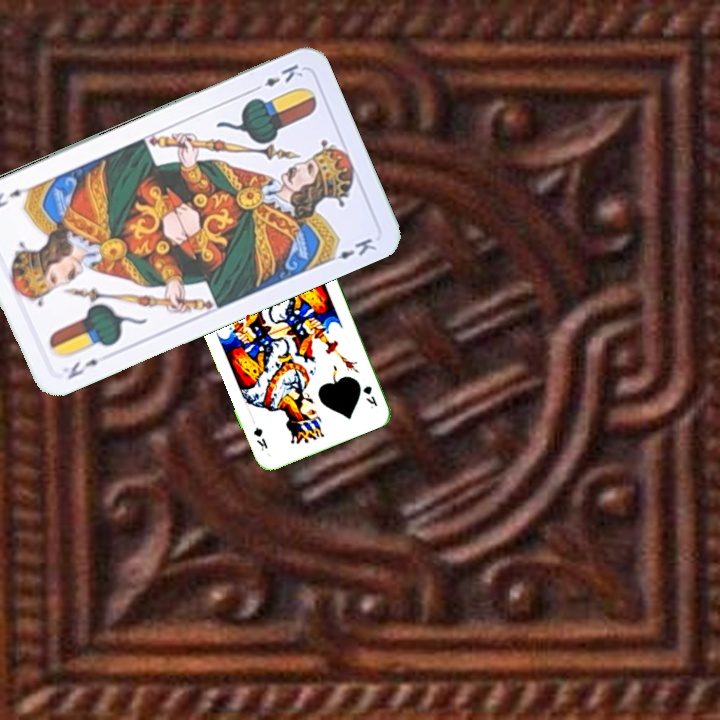EK: (248, 60, 306, 95), (63, 354, 102, 382)
GK: (359, 380, 380, 411)
